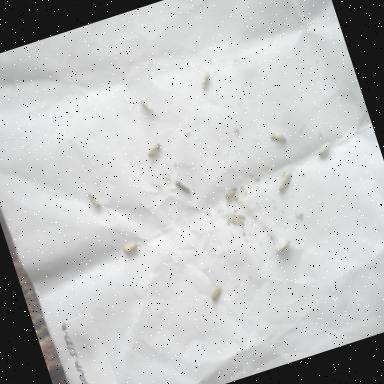pbw: (273, 168, 298, 192), (196, 70, 216, 94), (142, 139, 164, 160), (173, 175, 193, 198), (268, 127, 290, 147), (138, 94, 156, 117), (314, 139, 334, 159), (206, 283, 225, 303), (272, 237, 294, 254), (86, 188, 102, 210), (120, 238, 140, 255), (221, 184, 240, 201)
